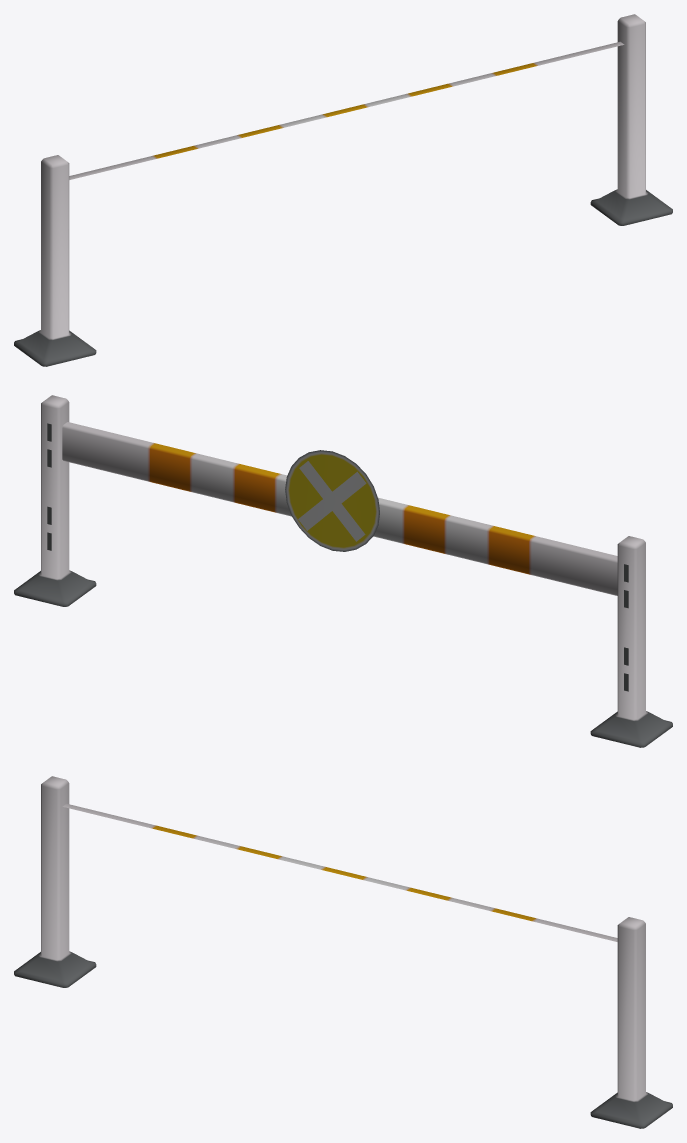
The model's file is ObstacleRoadWorksBarrierHigh_Death.glb.
3 renders of one model, top to bottom at view 1: azimuth 30°, elevation 25°; view 2: azimuth 150°, elevation 25°; view 3: azimuth 330°, elevation 25°, orthographic.
Parts seen in each view (by area): view 1: RoadWorksBarrierHigh; view 2: RoadWorksBarrierHigh; view 3: RoadWorksBarrierHigh.
Boxes of the visible parts, <box> form: RoadWorksBarrierHigh: <box>14,14,672,366</box>; RoadWorksBarrierHigh: <box>14,395,672,747</box>; RoadWorksBarrierHigh: <box>14,776,672,1128</box>.
Bounding box in the file's own units: 4.97 × 1.58 × 0.4257.
